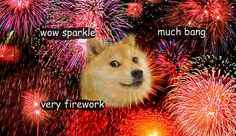doge: (82, 34, 153, 109)
